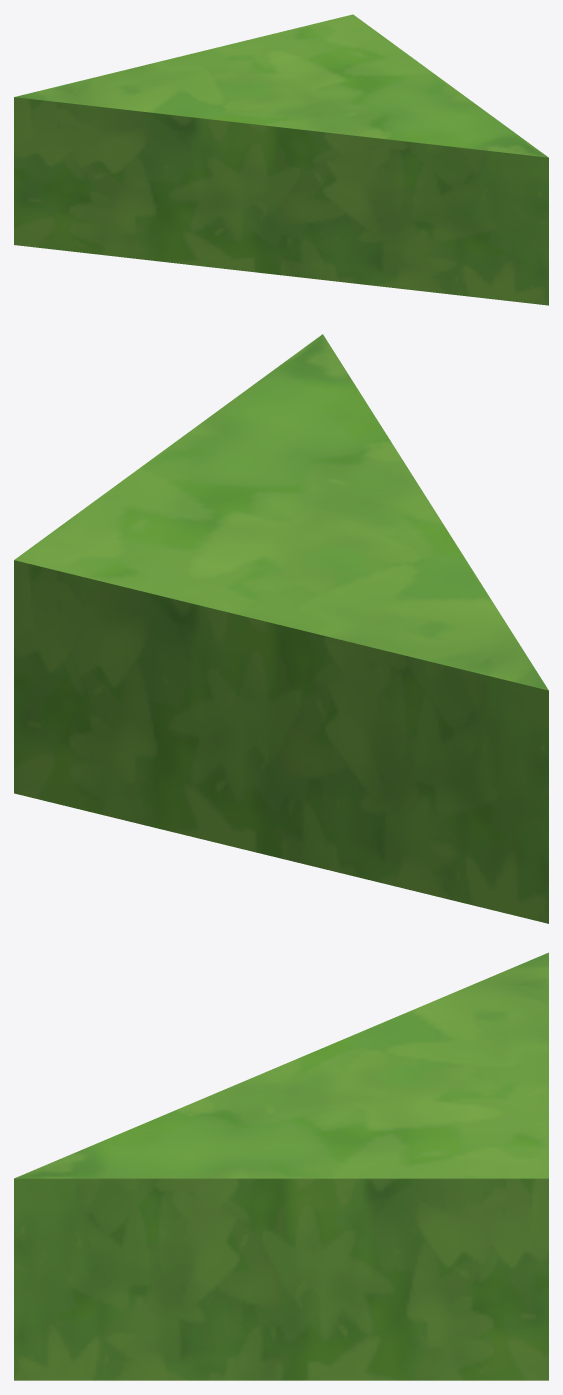
The model's file is DiagonalTile_1x1x1.fbx.
The picture shows the model from 3 angles, top to bottom: view 1: azimuth 30°, elevation 25°; view 2: azimuth 150°, elevation 25°; view 3: azimuth 270°, elevation 25°; orthographic projection. The views are drawn at different scales.
Parts seen in each view (by area): view 1: DiagonalTile_1x1x1; view 2: DiagonalTile_1x1x1; view 3: DiagonalTile_1x1x1.
Part boxes in pixels (x1,y1,x2,y2): DiagonalTile_1x1x1: (14, 14, 548, 305); DiagonalTile_1x1x1: (14, 334, 548, 923); DiagonalTile_1x1x1: (14, 952, 548, 1380).
Bounding box in the file's own units: 3 × 3 × 1.25.
